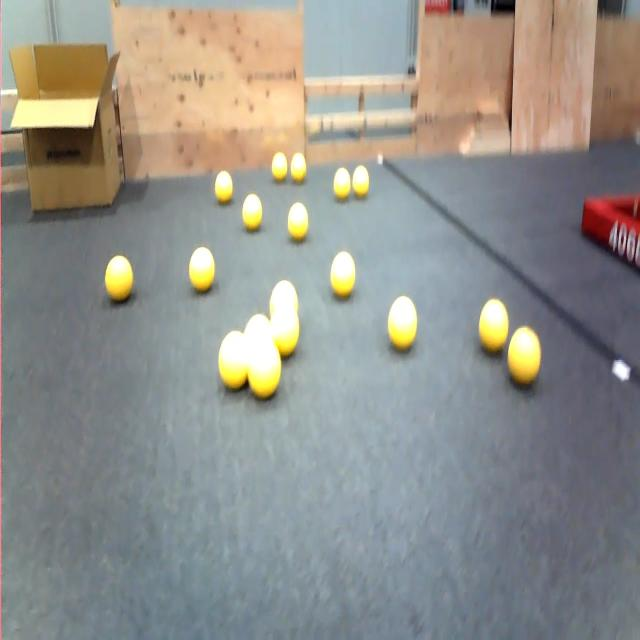fuel: (508, 301, 550, 401), (382, 286, 422, 363), (470, 286, 509, 364), (215, 323, 252, 395), (248, 333, 284, 405), (264, 298, 306, 359), (100, 248, 139, 309), (324, 242, 359, 308), (187, 240, 220, 305), (266, 276, 304, 323), (239, 187, 266, 247), (282, 197, 315, 246), (351, 162, 379, 206), (212, 165, 236, 208), (328, 163, 351, 206), (244, 309, 272, 340), (268, 148, 290, 182), (290, 151, 310, 185)
